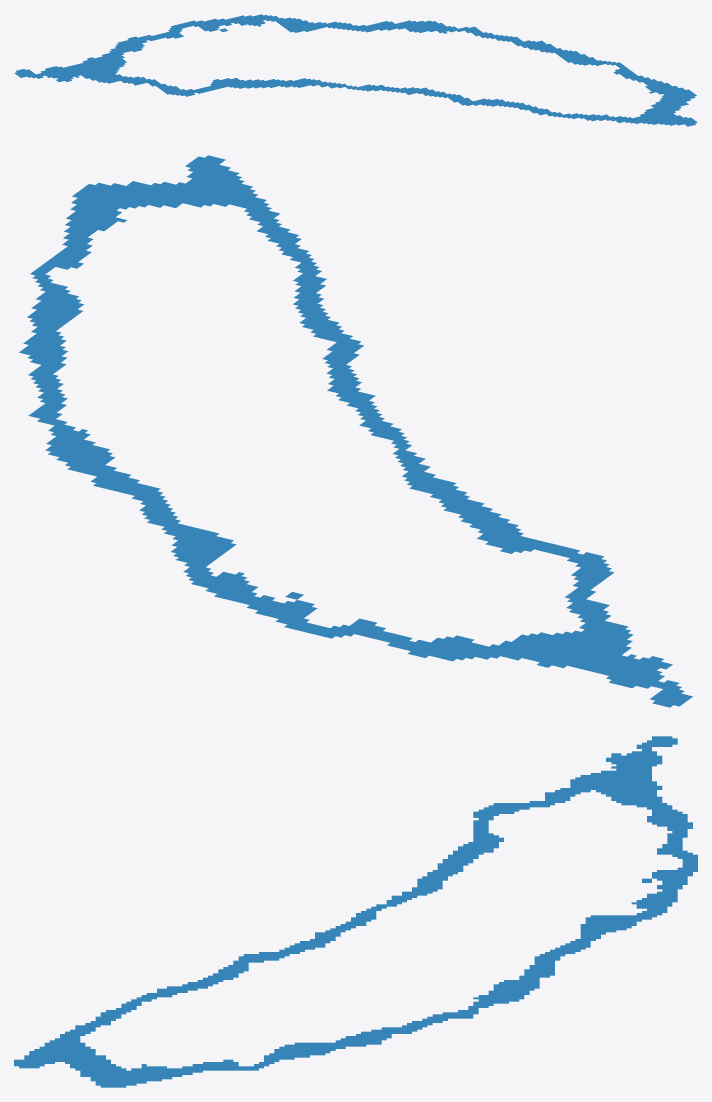
The model's file is Isl-long3-PlaceForWaterObjects.fbx.
The picture shows the model from 3 angles, top to bottom: view 1: azimuth 30°, elevation 25°; view 2: azimuth 150°, elevation 25°; view 3: azimuth 270°, elevation 25°; orthographic projection. The views are drawn at different scales.
Parts seen in each view (by area): view 1: Isl-long3-PlaceForWaterObjects; view 2: Isl-long3-PlaceForWaterObjects; view 3: Isl-long3-PlaceForWaterObjects.
Part boxes in pixels (x1,y1,x2,y2): Isl-long3-PlaceForWaterObjects: (14,14,697,126); Isl-long3-PlaceForWaterObjects: (19,155,692,707); Isl-long3-PlaceForWaterObjects: (14,736,697,1087).
Size of the model in its own units: 163 by 0 by 134.
